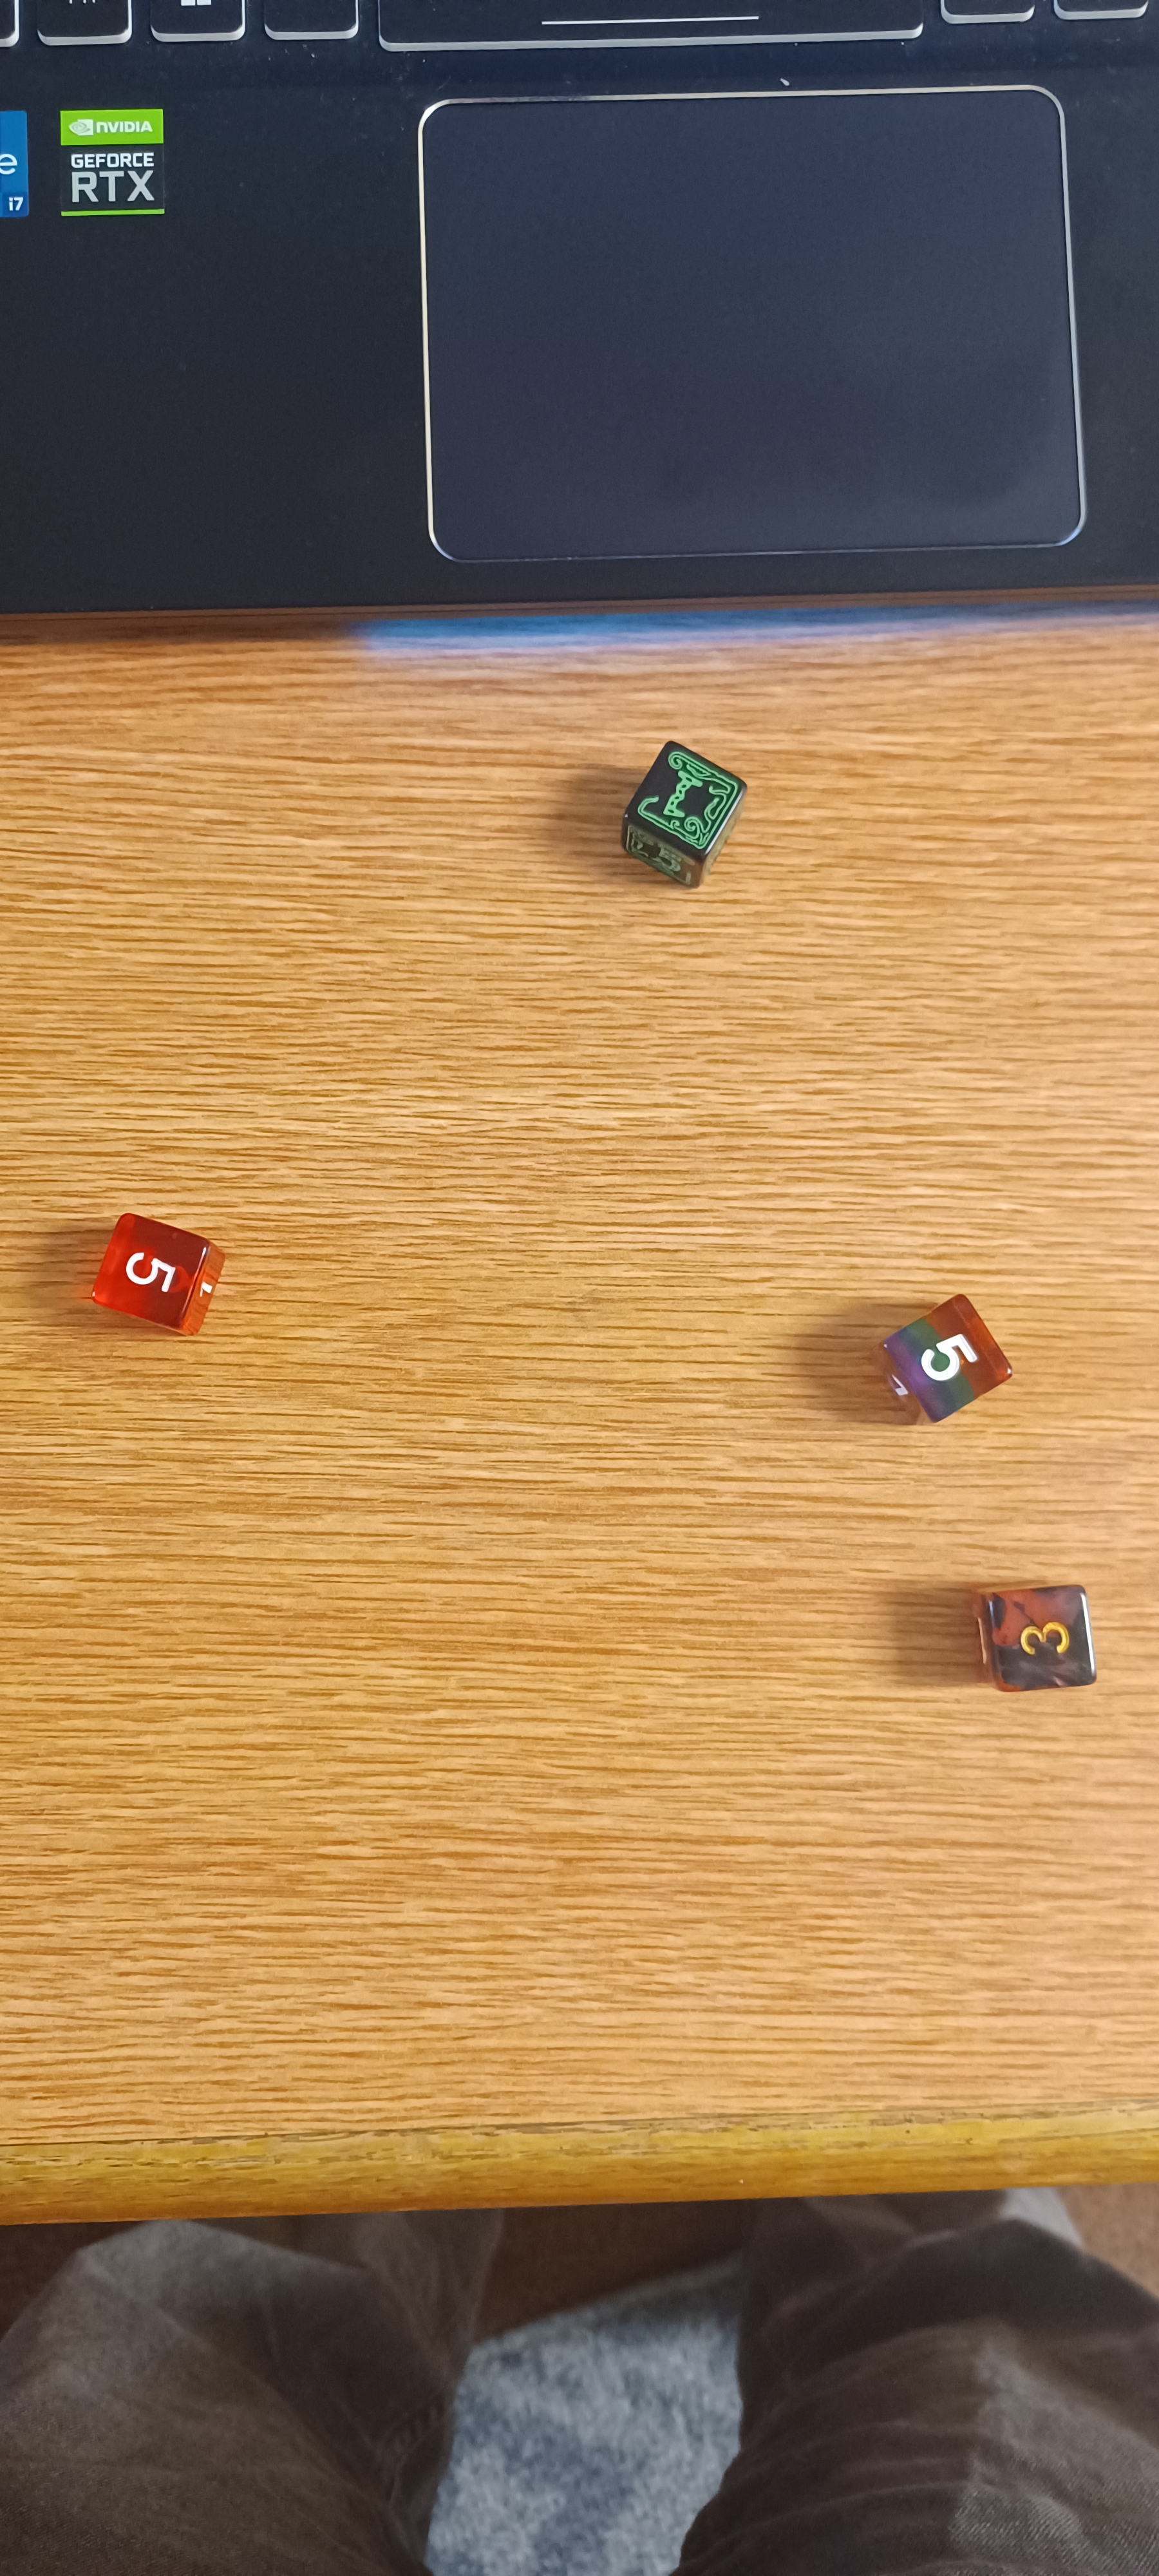five: (860, 1257, 1039, 1447), (74, 1186, 253, 1354)
one: (594, 710, 770, 900)
three: (941, 1548, 1141, 1732)
